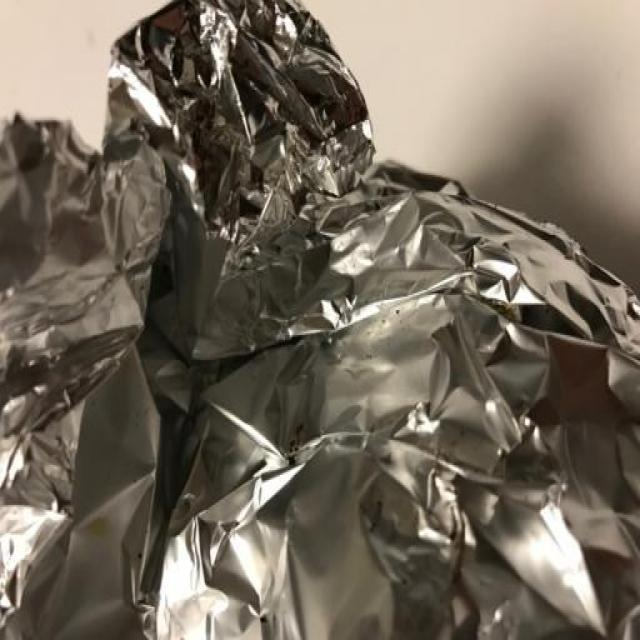plastic_bag: (246, 142, 640, 640), (127, 381, 580, 640), (93, 3, 389, 364)
